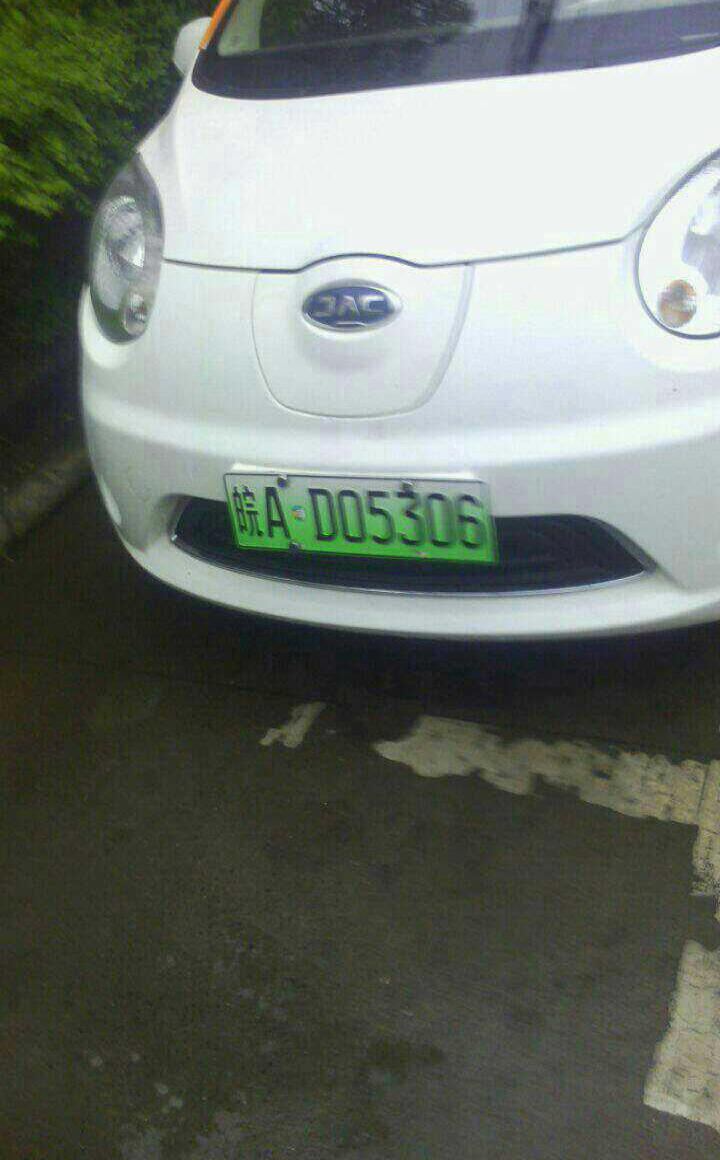car: (221, 471, 506, 566)
